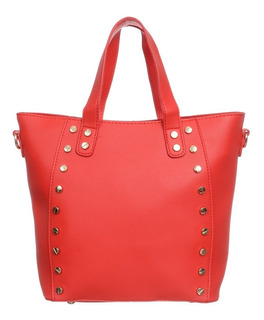cartera: (12, 14, 250, 305)
